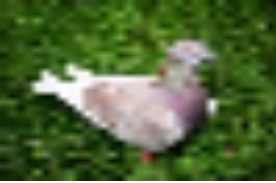pigeon: (25, 36, 224, 166)
